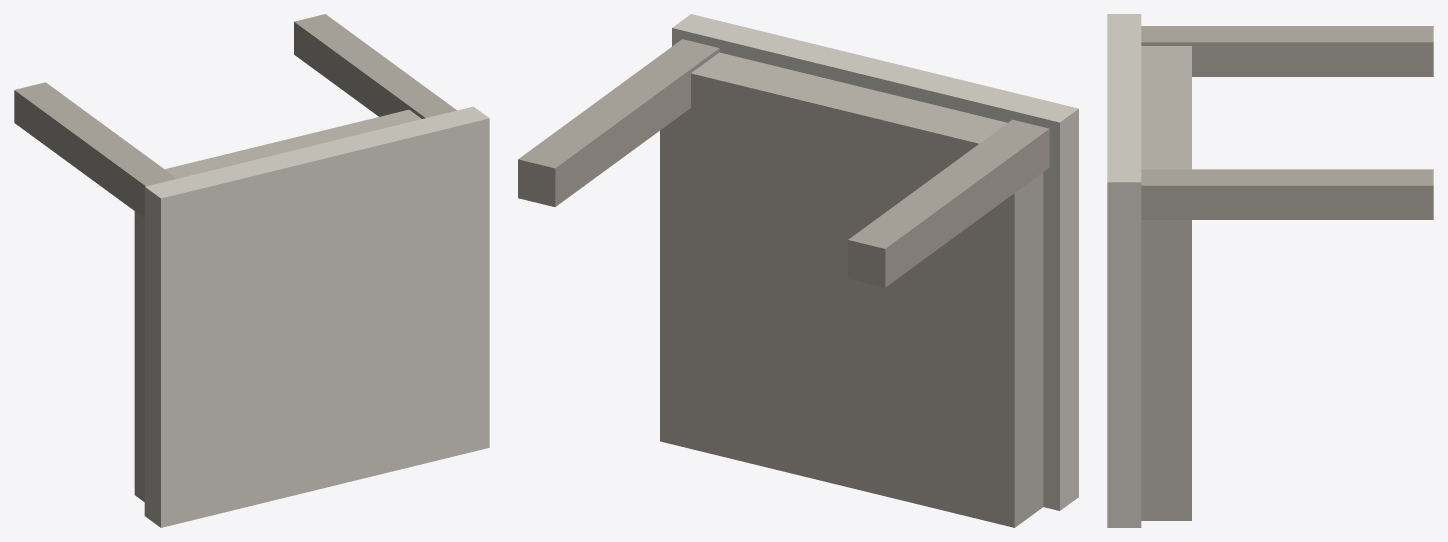
The model's file is section-2.obj.
The picture shows the model from 3 angles, left to right: view 1: azimuth 30°, elevation 25°; view 2: azimuth 150°, elevation 25°; view 3: azimuth 270°, elevation 25°; orthographic projection. The views are drawn at different scales.
Bounding box in the file's own units: 0.94 × 0.9 × 0.77.
1 material, 1 textured.
